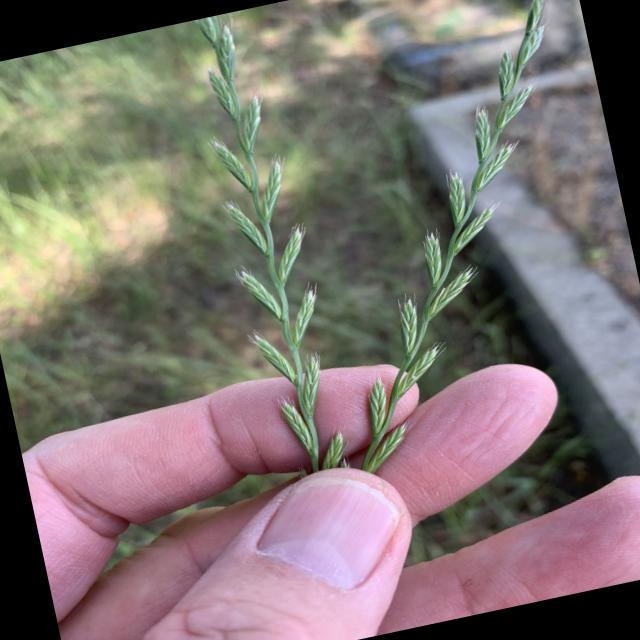Lolium: (272, 0, 640, 470), (176, 7, 361, 486)
